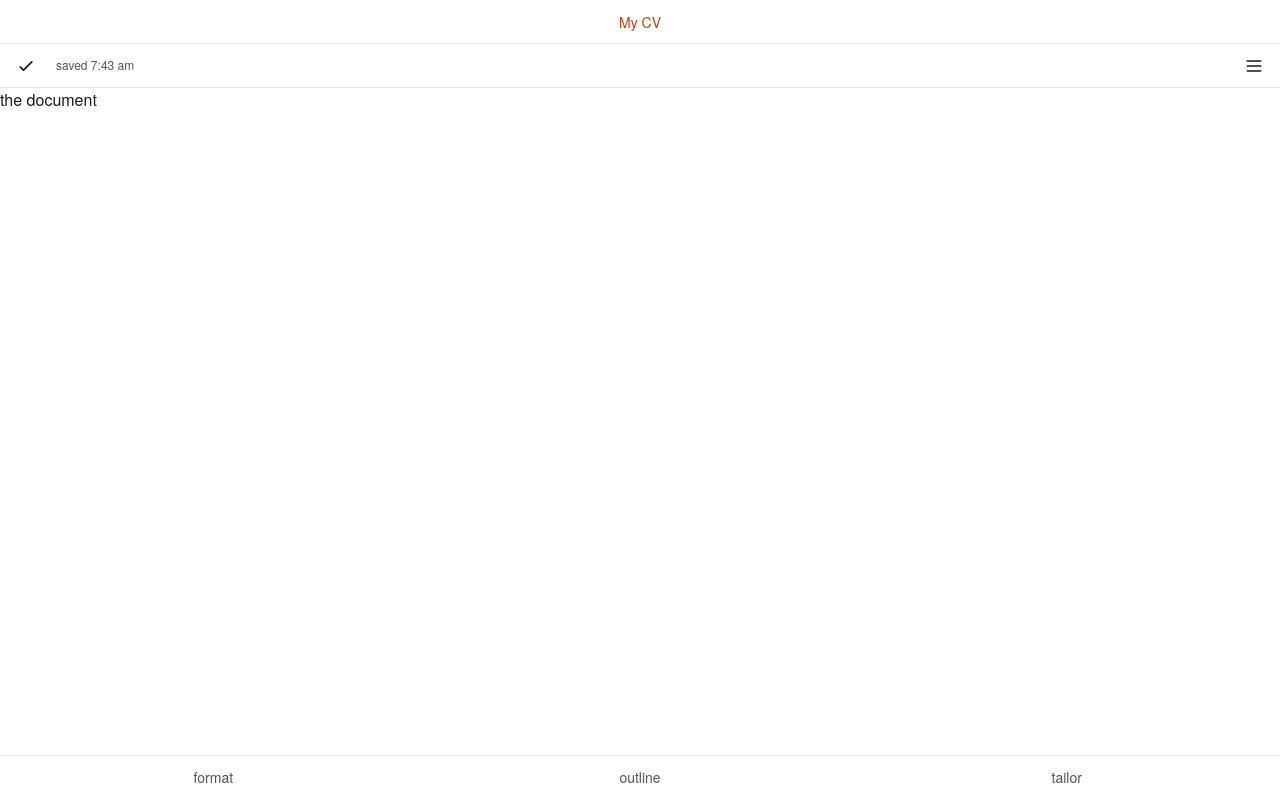
Scenario: the editor below lg › keeps a way out, the save state, and the formatting controls
Expected: the text "saved 7:43 am" is shown, [56,56,134,73]
Click the tab "format" at (213, 778), box [0,756,427,799]
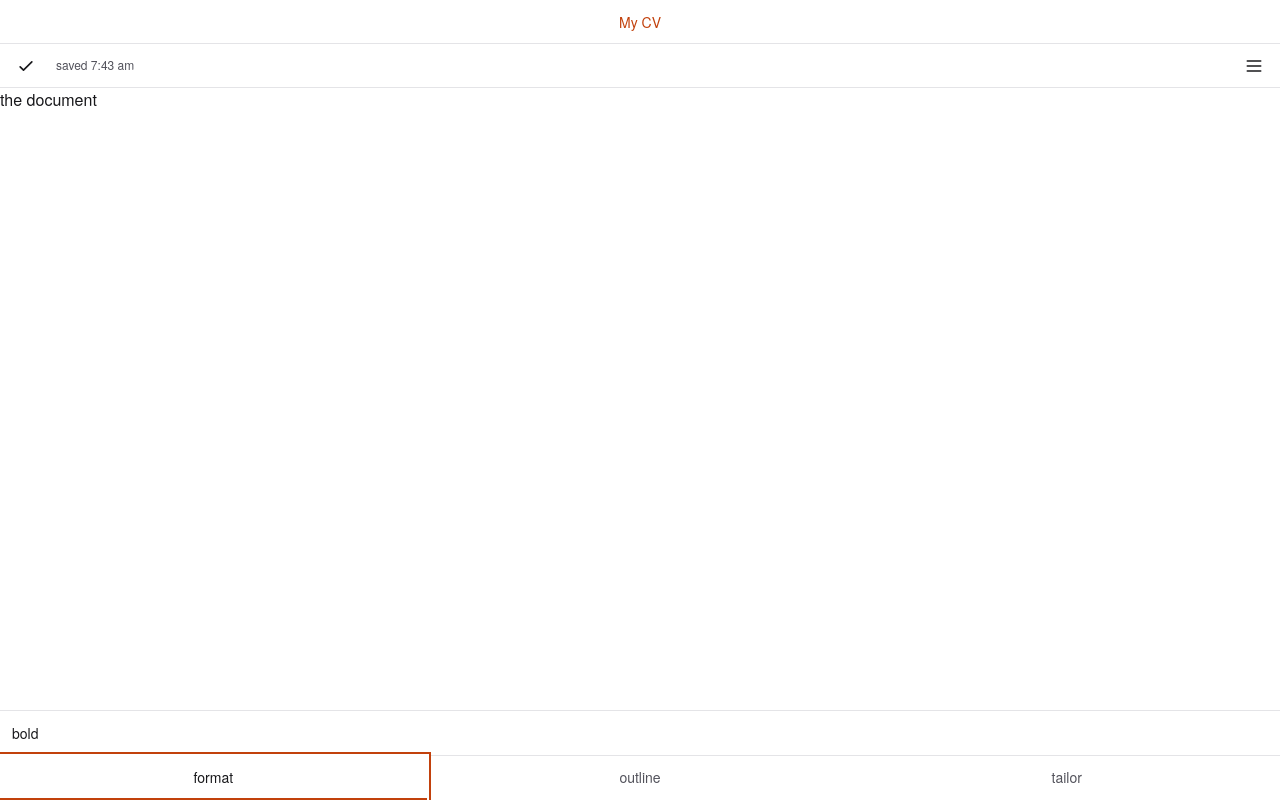
Expected: the button "bold" is shown, [12,723,38,743]
